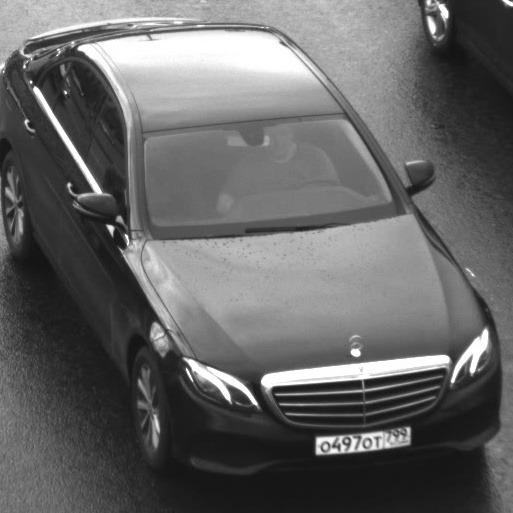plate: (302, 415, 420, 462)
